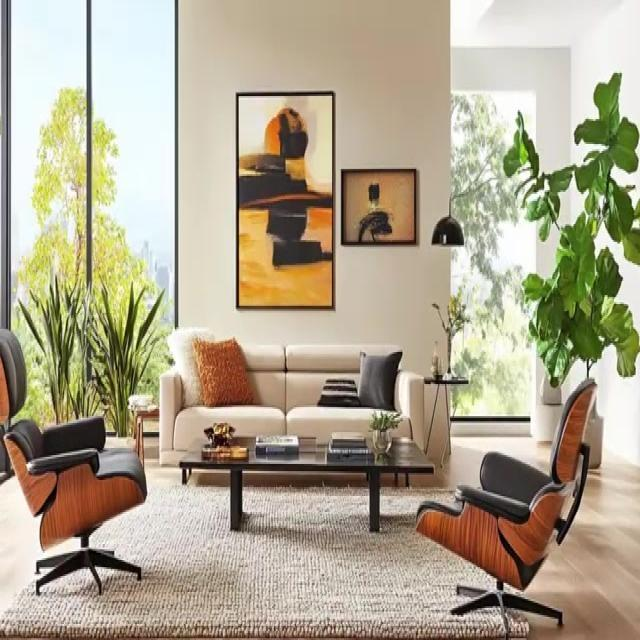obstacle: (415, 377, 598, 635), (0, 326, 147, 596), (158, 336, 425, 471), (178, 434, 434, 532), (422, 372, 468, 468)
